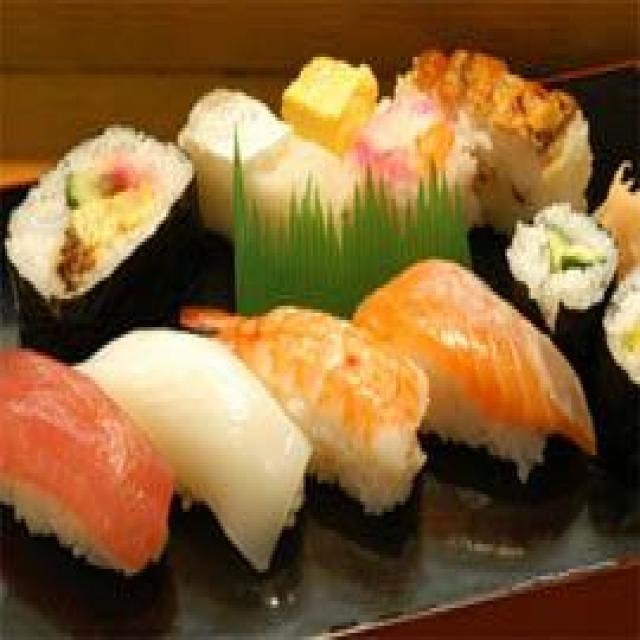寿司卷物: (0, 50, 640, 597)
